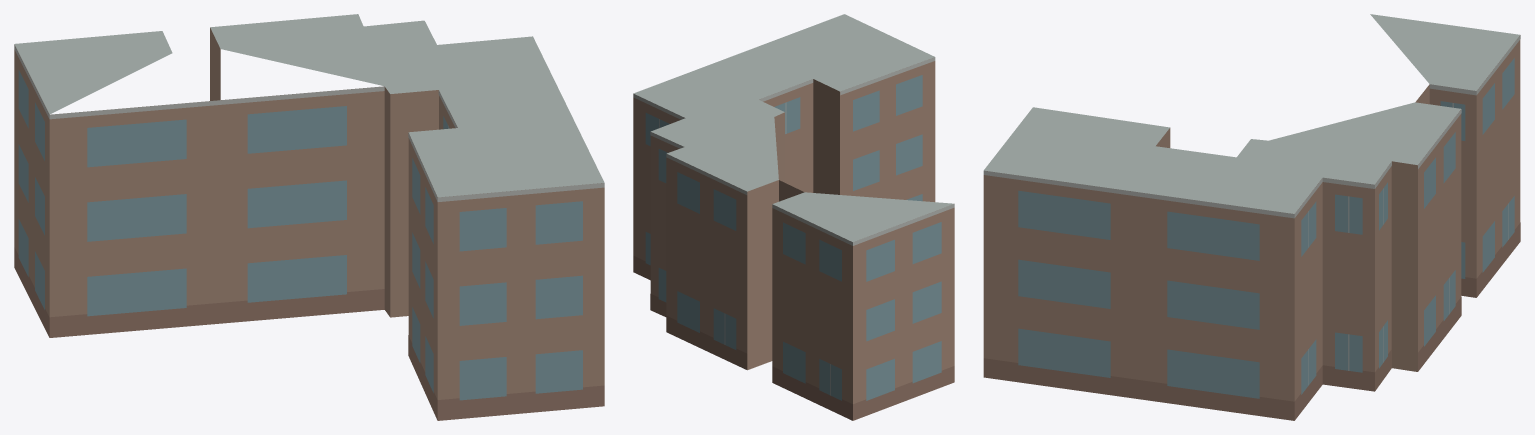
File: survey-upis-32901294.glb
The picture shows the model from 3 angles, left to right: view 1: azimuth 30°, elevation 25°; view 2: azimuth 150°, elevation 25°; view 3: azimuth 270°, elevation 25°; orthographic projection. The views are drawn at different scales.
Parts seen in each view (by area): view 1: survey-upis-32901294.tmp; view 2: survey-upis-32901294.tmp; view 3: survey-upis-32901294.tmp.
Part boxes in pixels (x1,y1,x2,y2): survey-upis-32901294.tmp: [14, 14, 604, 420]; survey-upis-32901294.tmp: [633, 14, 954, 420]; survey-upis-32901294.tmp: [983, 14, 1520, 420].
Size of the model in its own units: 23.85 by 11.5 by 27.06.
